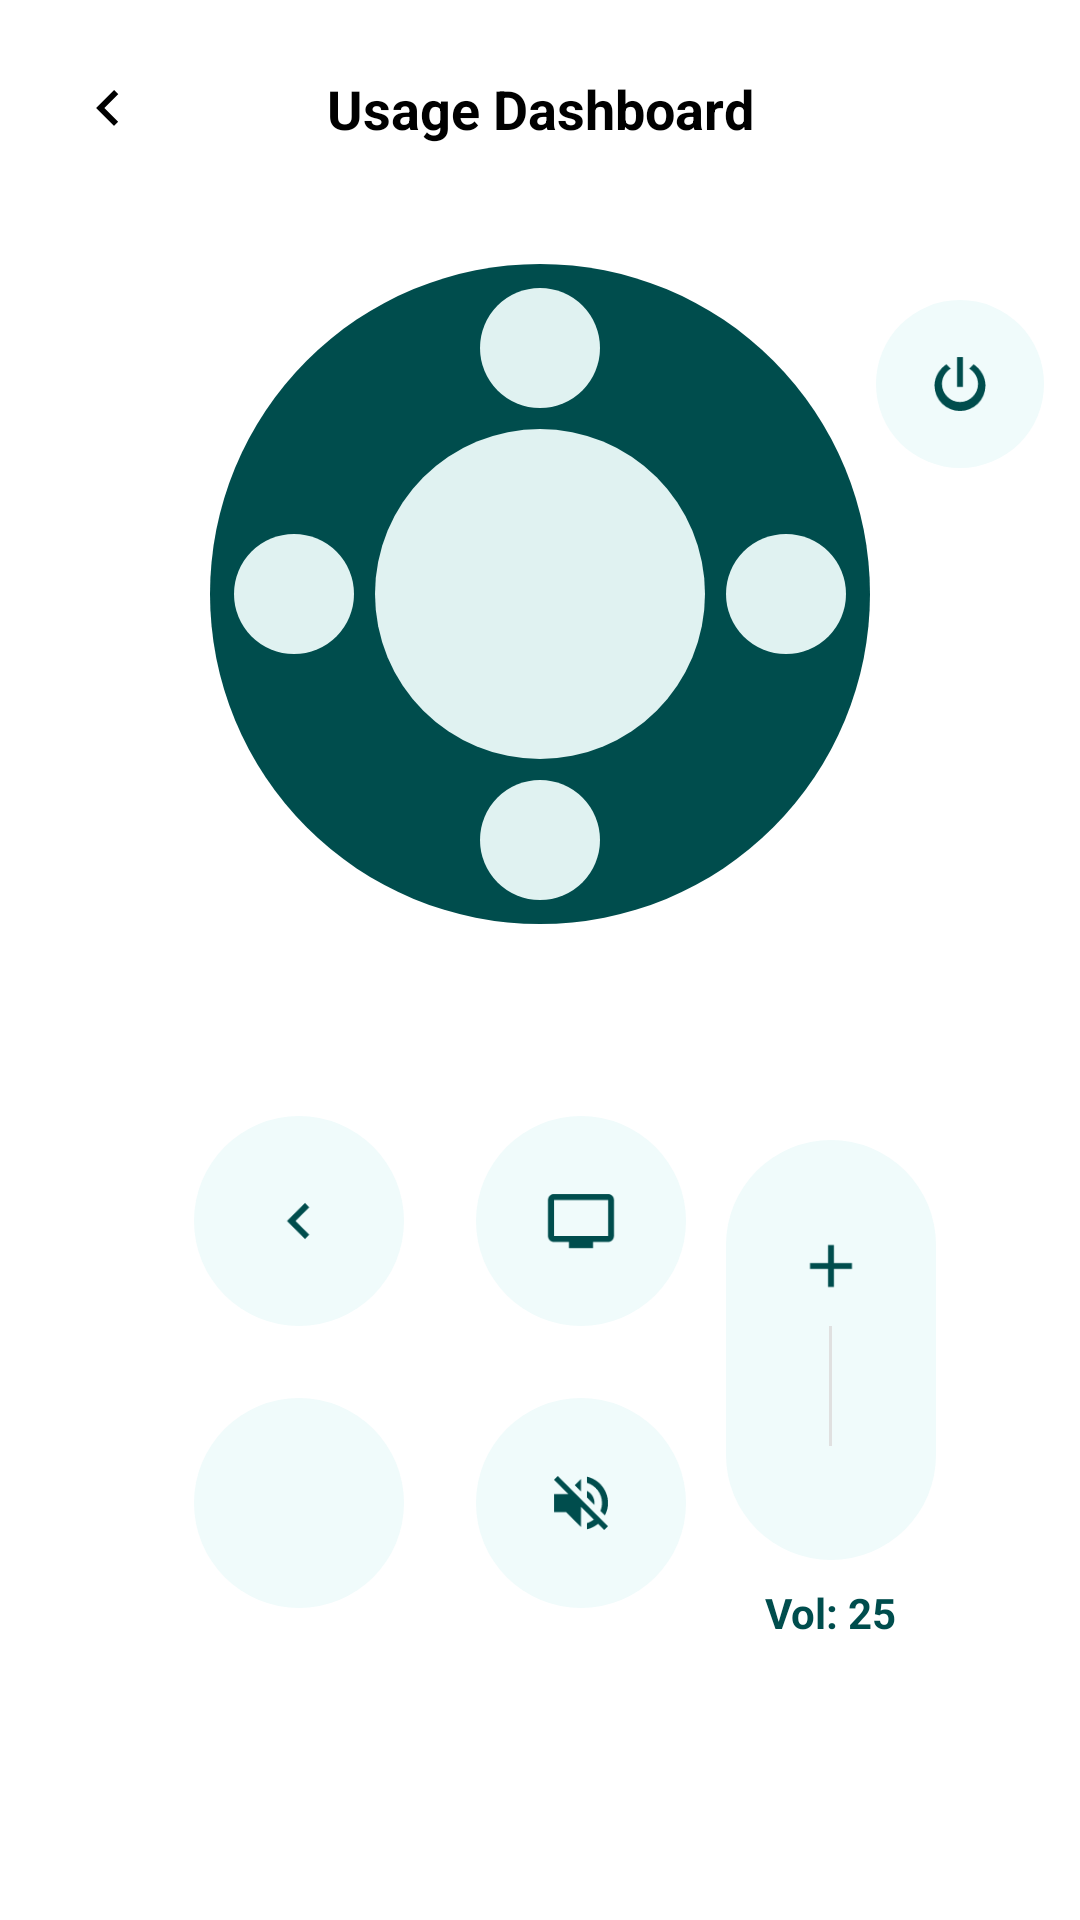

Icon click points for this 1080*1920 phone screenshot, format [x,y]:
arrow back: [107,108], [299,1221]
plus: [831,1266]
power: [960,384]
volume off: [581,1503]
